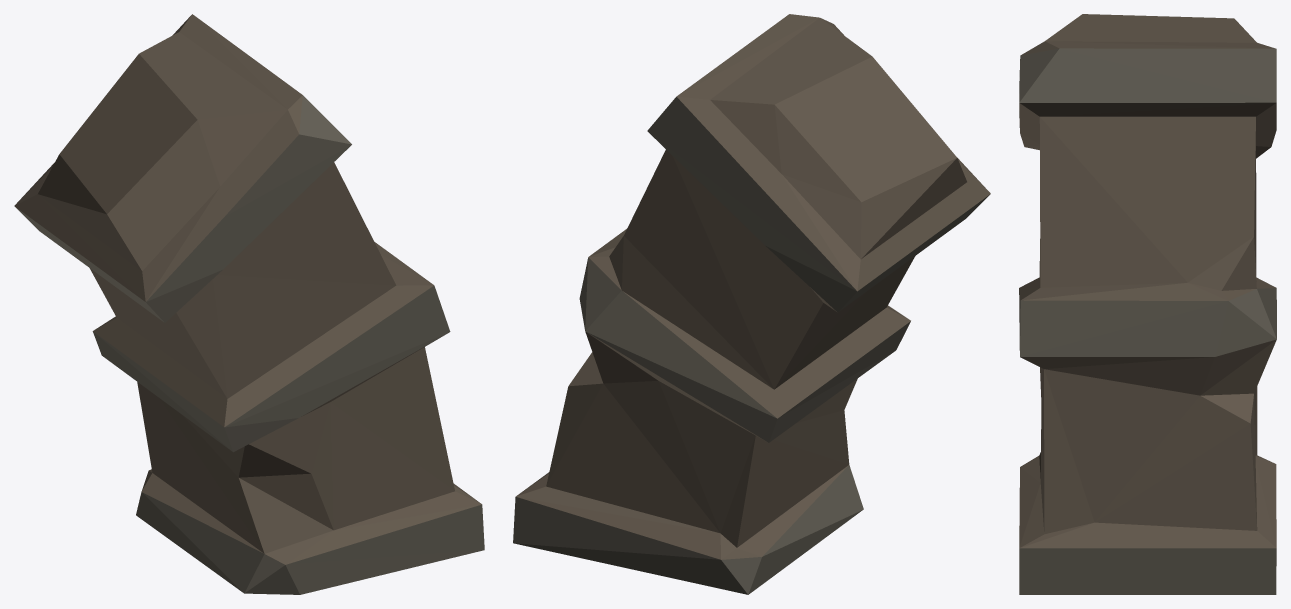
File: synty-prop-pillar-arch-broken-01.gltf
3 views of the same model, side by side, from view 1: azimuth 30°, elevation 25°; view 2: azimuth 150°, elevation 25°; view 3: azimuth 270°, elevation 25° (orthographic). The views are drawn at different scales.
Parts seen in each view (by area): view 1: SM_Prop_Pillar_Arch_Broken_01; view 2: SM_Prop_Pillar_Arch_Broken_01; view 3: SM_Prop_Pillar_Arch_Broken_01.
Part boxes in pixels (bbox=[...]): SM_Prop_Pillar_Arch_Broken_01: bbox=[14, 14, 484, 594]; SM_Prop_Pillar_Arch_Broken_01: bbox=[513, 14, 990, 594]; SM_Prop_Pillar_Arch_Broken_01: bbox=[1019, 14, 1276, 594].
Bounding box in the file's own units: 0.5995 × 0.8052 × 0.3998.
1 material, 1 textured.
